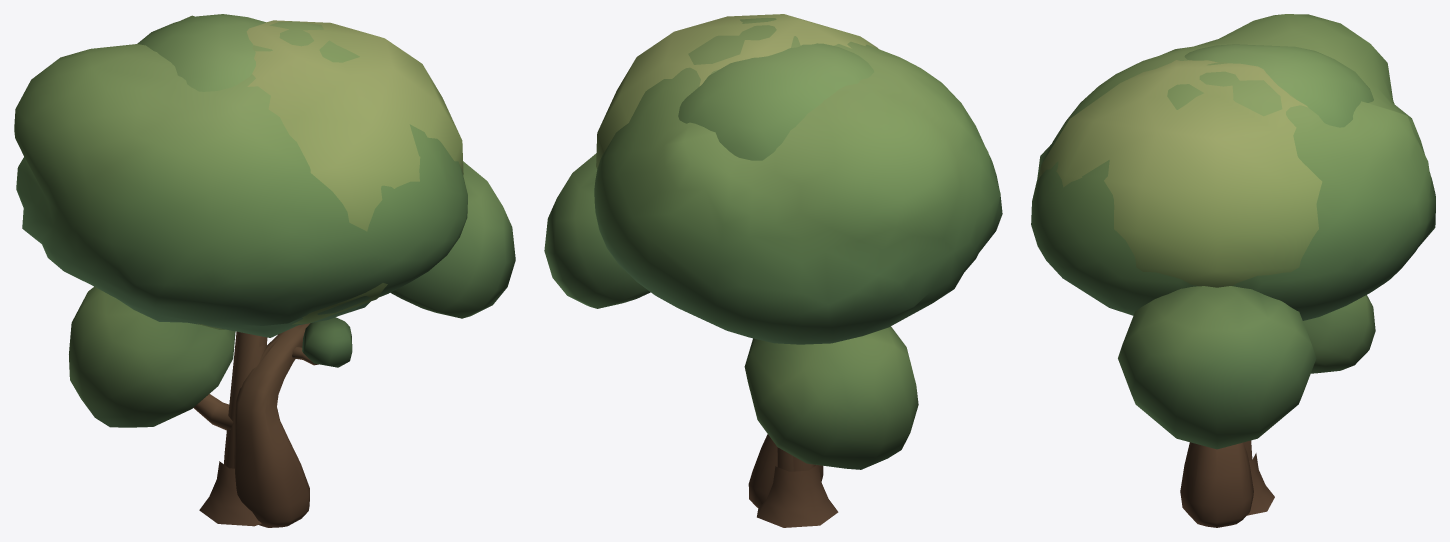
File: tree_round_large.glb
The picture shows the model from 3 angles, left to right: view 1: azimuth 30°, elevation 25°; view 2: azimuth 150°, elevation 25°; view 3: azimuth 270°, elevation 25°; orthographic projection. The views are drawn at different scales.
Parts seen in each view (by area): view 1: v1, v0, v2; view 2: v1, v0, v2; view 3: v0, v1, v2.
Part boxes in pixels (<box>): v1: <box>14,15,467,526</box>; v0: <box>69,20,515,527</box>; v2: <box>137,14,370,468</box>; v1: <box>594,18,1002,527</box>; v0: <box>544,14,918,507</box>; v2: <box>678,43,874,471</box>; v0: <box>1038,60,1375,527</box>; v1: <box>1031,14,1435,515</box>; v2: <box>1184,44,1373,127</box>.
Size of what is drawn, in the model's own units: 7.49 by 7.9 by 6.35.
